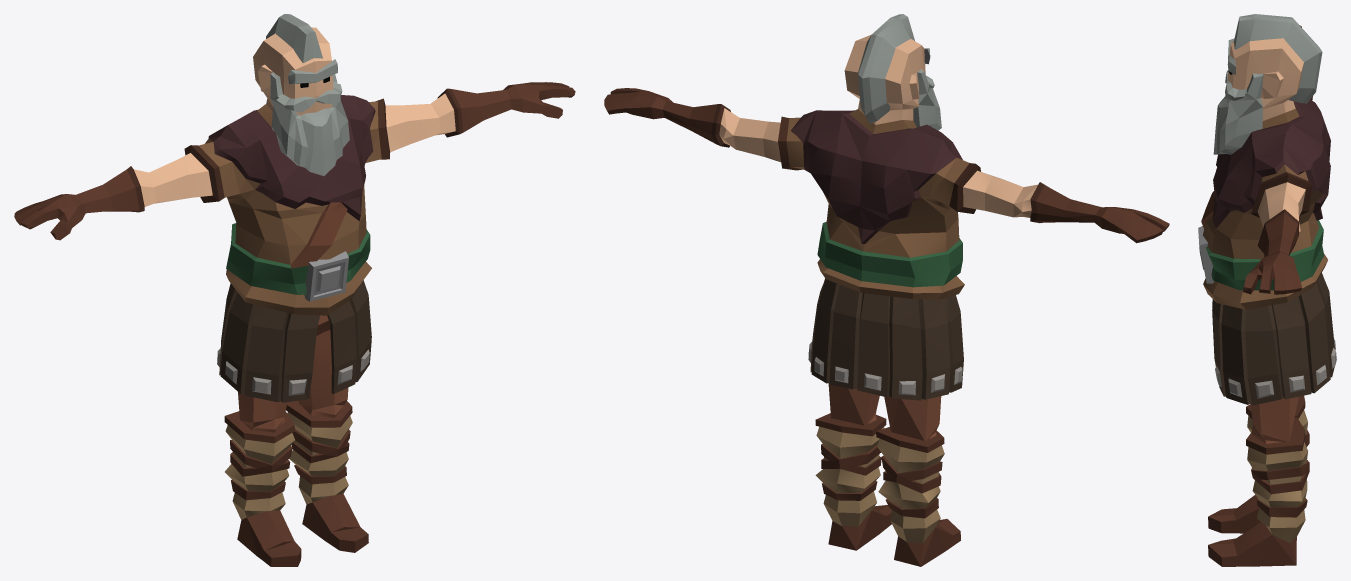
Rendered from mesh_only_viking.glb.
3 views of the same model, side by side, from view 1: azimuth 30°, elevation 25°; view 2: azimuth 150°, elevation 25°; view 3: azimuth 270°, elevation 25° (orthographic).
Visible parts, largest first — view 1: Character_Viking_Chief_01.001; view 2: Character_Viking_Chief_01.001; view 3: Character_Viking_Chief_01.001.
Part boxes in pixels (<box>): Character_Viking_Chief_01.001: <box>14,14,575,566</box>; Character_Viking_Chief_01.001: <box>604,14,1169,566</box>; Character_Viking_Chief_01.001: <box>1198,14,1336,566</box>.
Bounding box in the file's own units: 2.05 × 1.83 × 0.4386.
Materials: 1 (1 with a texture image).
